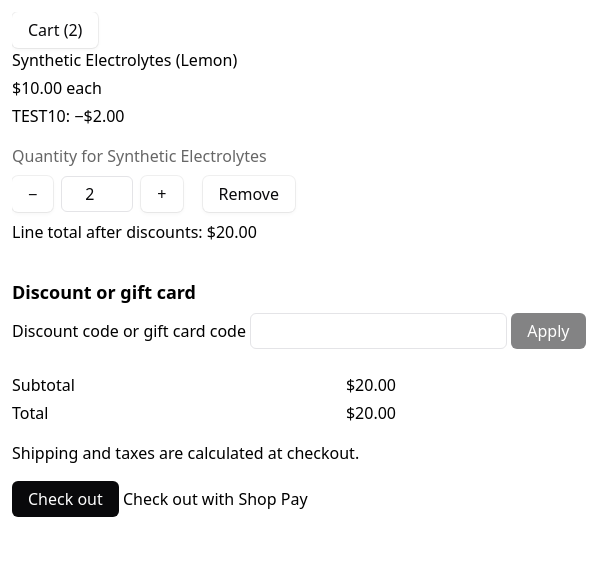
Scenario: cart › puts the quantity back and explains when a change fails
The width and height of the screenshot is (603, 574).
Check: the button with aria-label "Cart, 2 items" is shown, box x1=12 y1=12 x2=98 y2=48
Step 1. Click the button named "Increase quantity of Synthetic Electrolytes" → (162, 194), box x1=141 y1=176 x2=182 y2=212
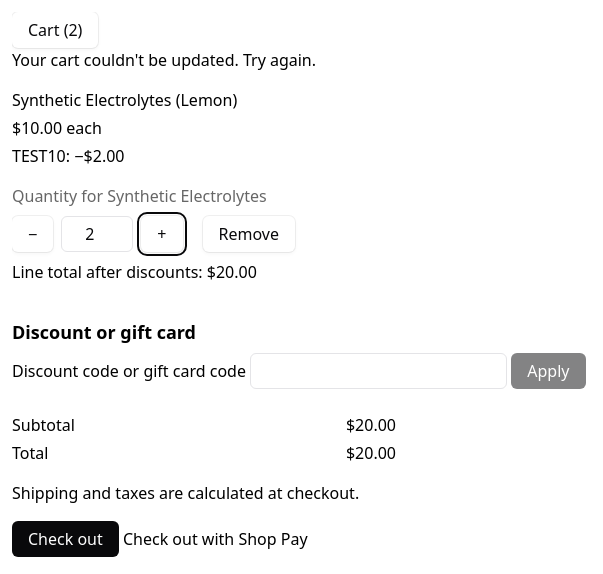
Check: the button with aria-label "Cart, 2 items" is shown, box x1=12 y1=12 x2=98 y2=48
Check: the message reads "Your cart couldn't be updated. Try again.", box x1=12 y1=49 x2=316 y2=71
